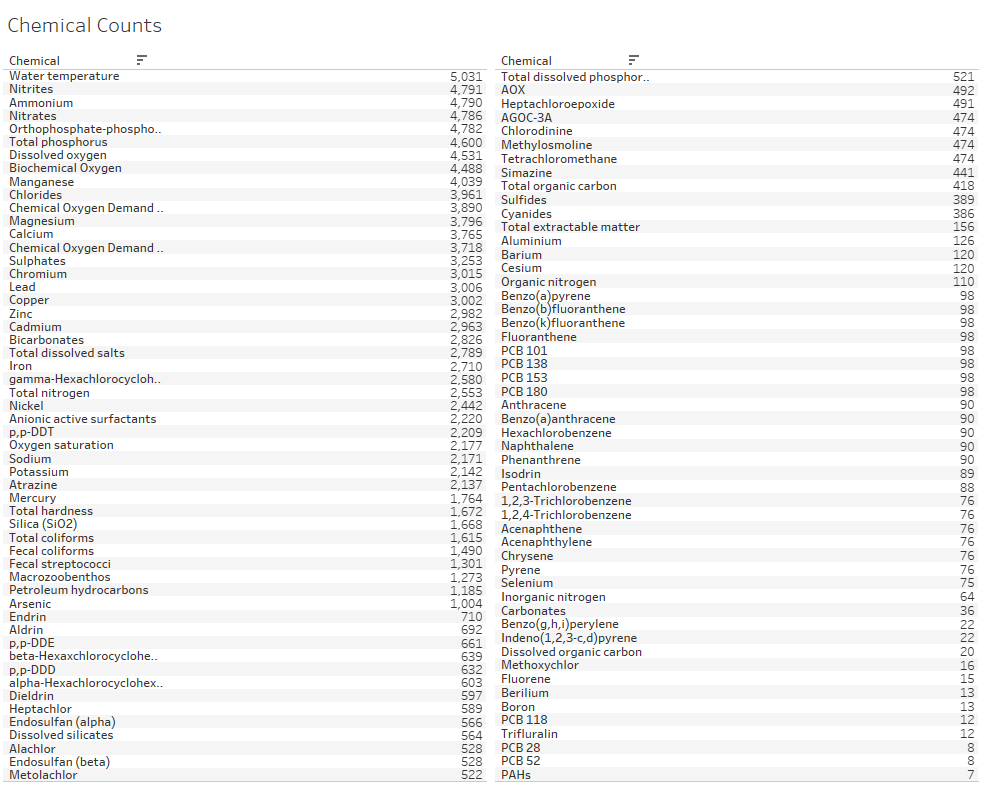

The page's visual inventory and layout, read from the dashboard file:
{"tool":"tableau","page":{"name":"Chemical Counts","canvas":[1000,800],"ordinal":0},"visuals":[{"type":"worksheet","title":"Chemical Counts 1","mark":"Automatic","rows":["chemical"],"box":[8,8,492,784]},{"type":"worksheet","title":"Chemical Counts 2","mark":"Automatic","rows":["chemical"],"box":[500,8,492,784]}]}

Visuals, with their boxes in screenshot pixels (x1, y1, x2, y2), scaled from the page's 1000x800 canvas onto the 985x789 screenshot:
"Chemical Counts 1" worksheet: <box>8,8,492,781</box>
"Chemical Counts 2" worksheet: <box>492,8,977,781</box>
